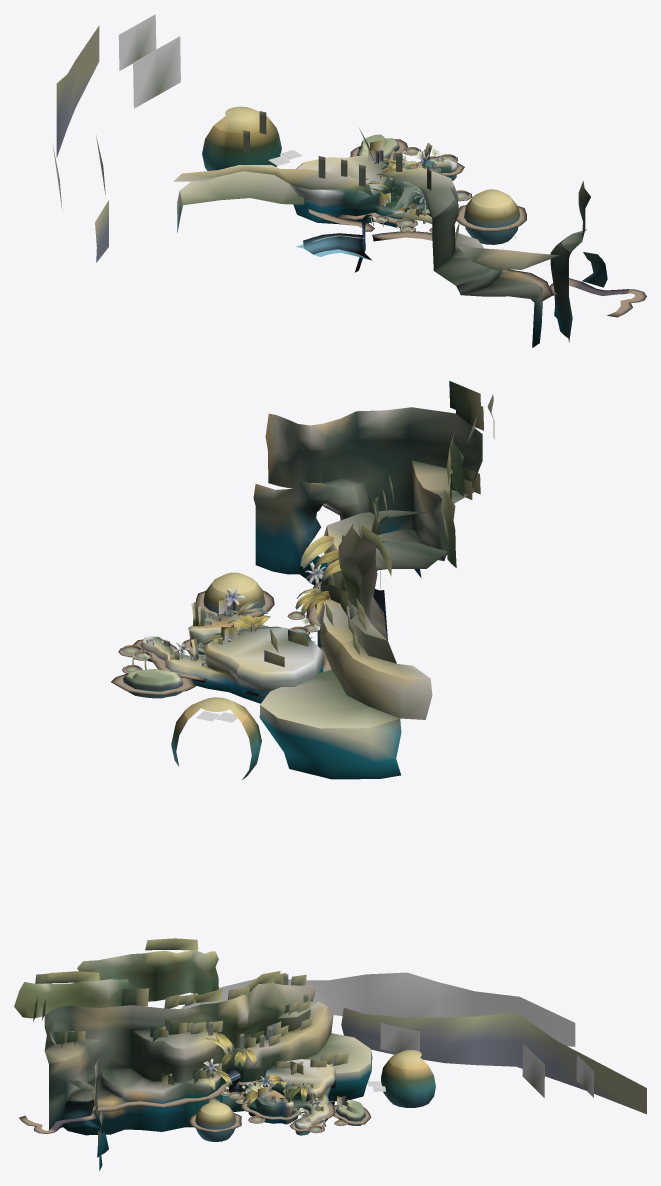
The model's file is 06CavernEntrance.gltf.
3 views of the same model, one above another, from view 1: azimuth 30°, elevation 25°; view 2: azimuth 150°, elevation 25°; view 3: azimuth 270°, elevation 25° (orthographic). The views are drawn at different scales.
Parts seen in each view (by area): view 1: stg020_o22_Mesh_16.001, stg020_o22_Mesh_6.002, stg020_o22_Mesh_11.001, stg020_p21_Mesh_27.001, stg020_ripple_k_21_Mesh_10.001, stg020_p21_Mesh_52.001, stg020_o22_Mesh_8.001, stg020_a05_Mesh_0.001, stg020_p22_Mesh_32.001, stg020_p22_Mesh_4.001; view 2: stg020_o22_Mesh_6.002, stg020_o22_Mesh_16.001, stg020_p22_Mesh_24.001, stg020_ripple_k_21_Mesh_10.001, stg020_p22_Mesh_4.001, stg020_o22_Mesh_11.001, stg020_o22_Mesh_8.001; view 3: stg020_o22_Mesh_6.002, stg020_p21_Mesh_52.001, stg020_o22_Mesh_16.001, stg020_p22_Mesh_24.001, stg020_o22_Mesh_11.001, stg020_ripple_k_21_Mesh_10.001, stg020_p21_Mesh_27.001, stg020_p22_Mesh_8.001, stg020_p22_Mesh_4.001, stg020_o22_Mesh_8.001, stg020_p22_Mesh_32.001.
Part boxes in pixels (bbox=[...]): stg020_o22_Mesh_16.001: bbox=[173, 134, 586, 298]; stg020_o22_Mesh_6.002: bbox=[177, 128, 607, 347]; stg020_o22_Mesh_11.001: bbox=[202, 117, 519, 244]; stg020_p21_Mesh_27.001: bbox=[118, 14, 180, 108]; stg020_ripple_k_21_Mesh_10.001: bbox=[308, 139, 646, 317]; stg020_p21_Mesh_52.001: bbox=[52, 25, 108, 262]; stg020_o22_Mesh_8.001: bbox=[213, 106, 511, 207]; stg020_a05_Mesh_0.001: bbox=[303, 233, 371, 259]; stg020_p22_Mesh_32.001: bbox=[243, 115, 431, 190]; stg020_p22_Mesh_4.001: bbox=[365, 158, 429, 215]; stg020_o22_Mesh_6.002: bbox=[123, 394, 494, 779]; stg020_o22_Mesh_16.001: bbox=[127, 460, 475, 728]; stg020_p22_Mesh_24.001: bbox=[264, 381, 483, 667]; stg020_ripple_k_21_Mesh_10.001: bbox=[111, 504, 381, 698]; stg020_p22_Mesh_4.001: bbox=[205, 536, 340, 641]; stg020_o22_Mesh_11.001: bbox=[171, 582, 265, 779]; stg020_o22_Mesh_8.001: bbox=[184, 572, 256, 721]; stg020_o22_Mesh_6.002: bbox=[14, 950, 372, 1170]; stg020_p21_Mesh_52.001: bbox=[181, 972, 646, 1114]; stg020_o22_Mesh_16.001: bbox=[44, 1001, 370, 1124]; stg020_p22_Mesh_24.001: bbox=[33, 973, 348, 1087]; stg020_o22_Mesh_11.001: bbox=[195, 1059, 435, 1141]; stg020_ripple_k_21_Mesh_10.001: bbox=[19, 1074, 371, 1133]; stg020_p21_Mesh_27.001: bbox=[380, 1023, 594, 1097]; stg020_p22_Mesh_8.001: bbox=[47, 938, 280, 1004]; stg020_p22_Mesh_4.001: bbox=[206, 1033, 307, 1107]; stg020_o22_Mesh_8.001: bbox=[201, 1050, 428, 1115]; stg020_p22_Mesh_32.001: bbox=[165, 977, 315, 1105].
Size of the model in its own units: 294 by 142 by 538.
